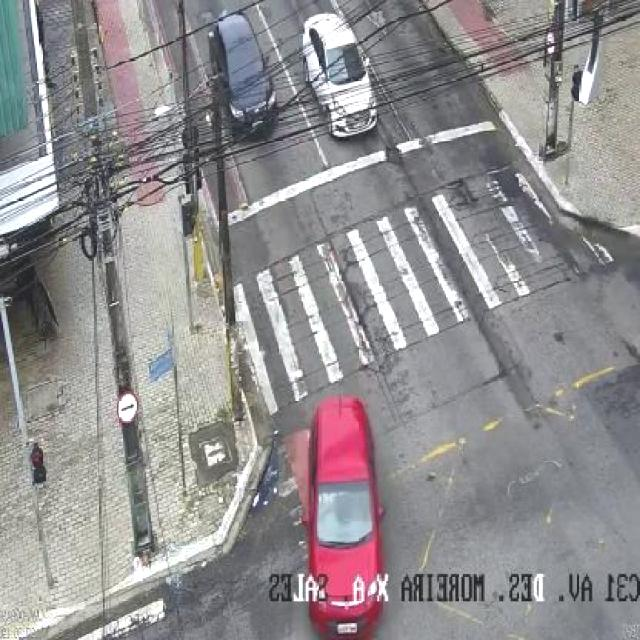Car: (287, 391, 396, 640), (300, 0, 385, 168), (199, 3, 290, 147)
